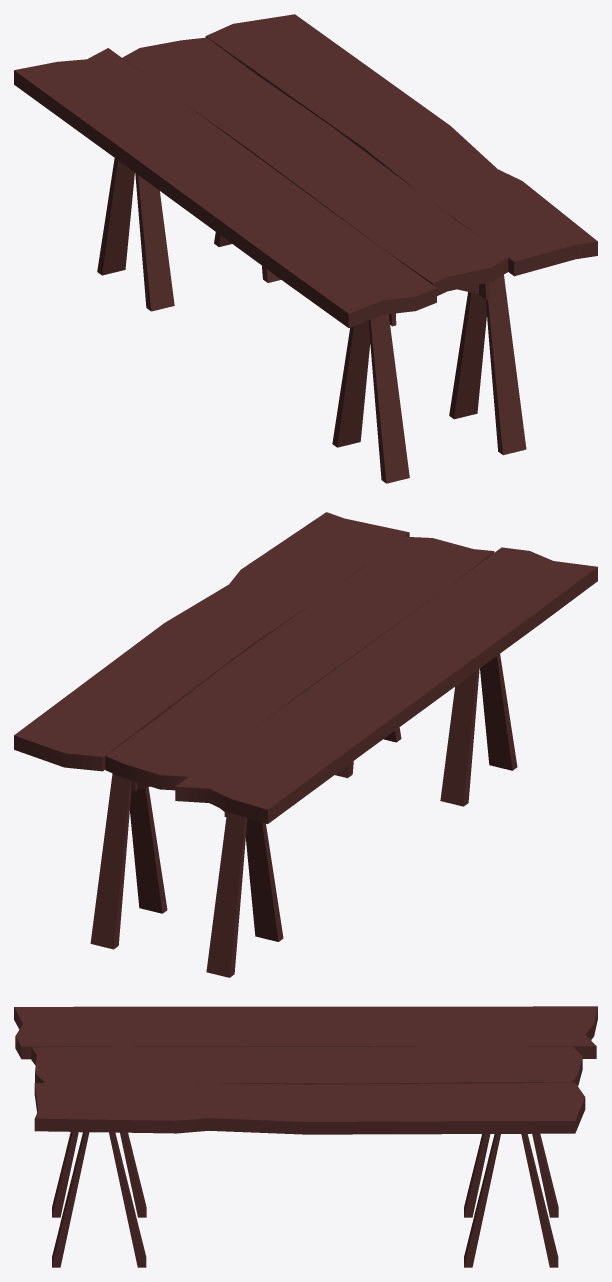
Rendered from table_traiteaux.fbx.
3 renders of one model, top to bottom at view 1: azimuth 30°, elevation 25°; view 2: azimuth 150°, elevation 25°; view 3: azimuth 270°, elevation 25°, orthographic. The views are drawn at different scales.
Visible parts, largest first — view 1: table_base_rectnagle, treteau, treteau1; view 2: table_base_rectnagle, treteau1, treteau; view 3: table_base_rectnagle, treteau, treteau1.
Part boxes in pixels (x1,y1,x2,y2): table_base_rectnagle: (14, 14, 597, 327); treteau: (332, 274, 526, 483); treteau1: (97, 158, 280, 311); table_base_rectnagle: (14, 512, 597, 823); treteau1: (90, 773, 283, 977); treteau: (335, 654, 517, 806); table_base_rectnagle: (14, 1006, 597, 1134); treteau: (52, 1132, 146, 1267); treteau1: (464, 1133, 558, 1267).
Bounding box in the file's own units: 33.96 × 24.02 × 72.49.
